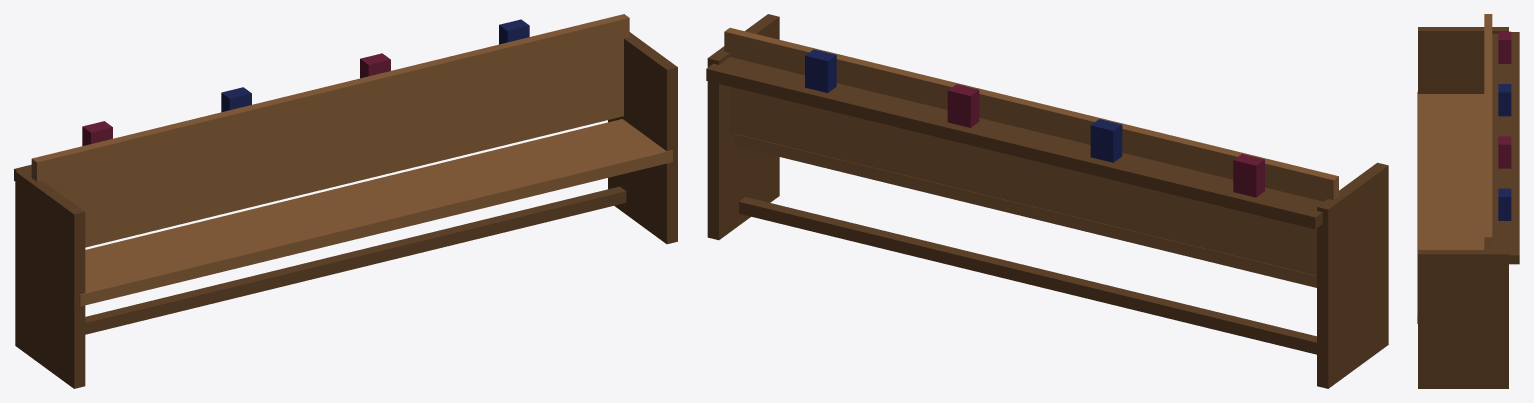
Rendered from prop_pew.dcd6f15b29d0.glb.
3 renders of one model, left to right at view 1: azimuth 30°, elevation 25°; view 2: azimuth 150°, elevation 25°; view 3: azimuth 270°, elevation 25°, orthographic. The views are drawn at different scales.
Visible parts, largest first — view 1: body; view 2: body; view 3: body.
Boxes of the visible parts, <box> form: body: <box>14,14,677,388</box>; body: <box>706,14,1388,388</box>; body: <box>1417,14,1519,388</box>.
Size of the model in its own units: 3.26 by 1.04 by 0.62.
